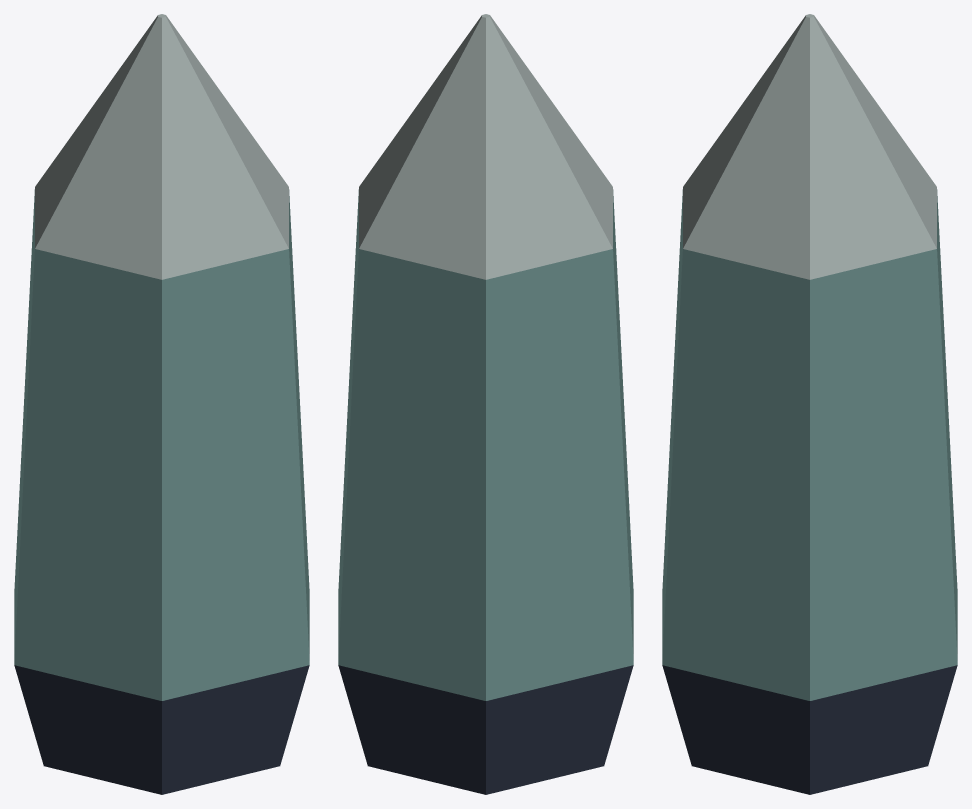
The model's file is crystal-large.glb.
The picture shows the model from 3 angles, left to right: view 1: azimuth 30°, elevation 25°; view 2: azimuth 150°, elevation 25°; view 3: azimuth 270°, elevation 25°; orthographic projection.
Parts seen in each view (by area): view 1: crystal-large__body; view 2: crystal-large__body; view 3: crystal-large__body.
Part boxes in pixels (<box>): crystal-large__body: <box>14,14,309,794</box>; crystal-large__body: <box>338,14,633,794</box>; crystal-large__body: <box>662,14,957,794</box>.
Bounding box in the file's own units: 0.9 × 2.1 × 0.7794.
